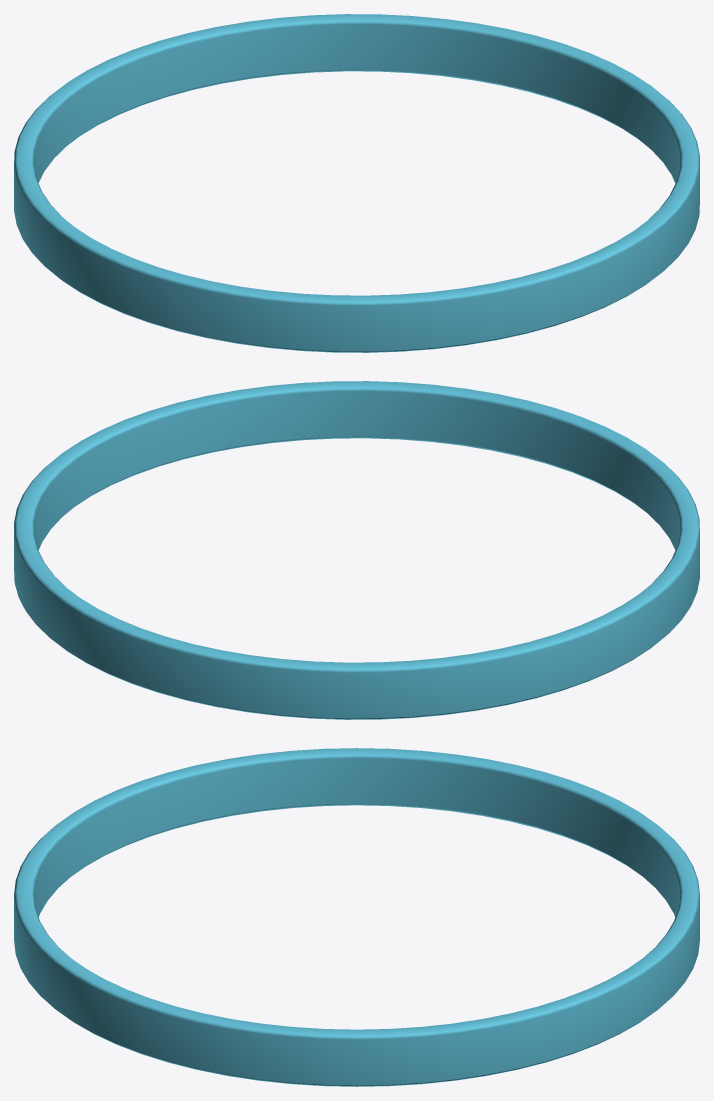
The picture shows the model from 3 angles, top to bottom: view 1: azimuth 30°, elevation 25°; view 2: azimuth 150°, elevation 25°; view 3: azimuth 270°, elevation 25°; orthographic projection.
Visible parts, largest first — view 1: seal_body; view 2: seal_body; view 3: seal_body.
Boxes of the visible parts, <box> form: seal_body: <box>14,14,699,352</box>; seal_body: <box>14,381,699,719</box>; seal_body: <box>14,748,699,1086</box>.
Bounding box in the file's own units: 0.172 × 0.0143 × 0.172.
